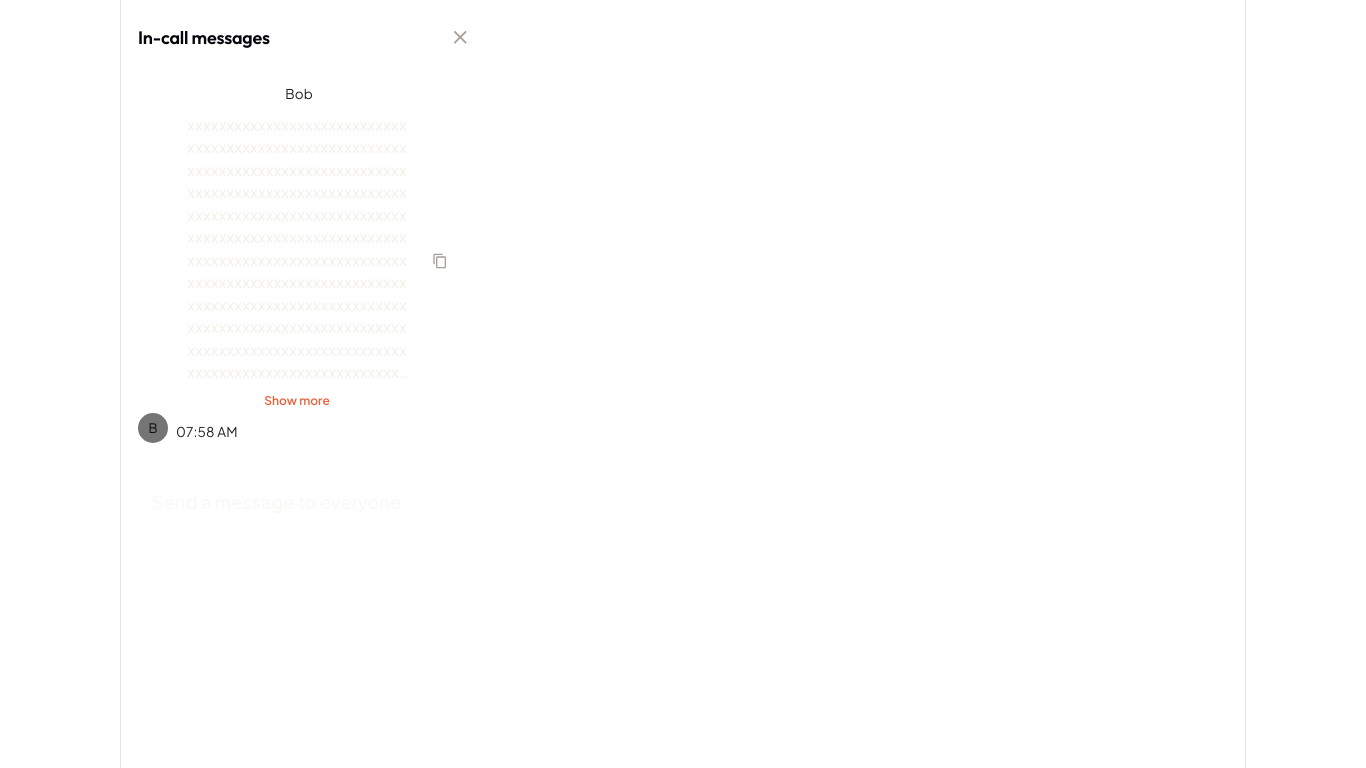
it: ChatPanel › long-message rendering › is a focusable native button that toggles on activation
Click the button "Show more" at (297, 401), box x1=264 y1=392 x2=330 y2=409
(page scrolled)
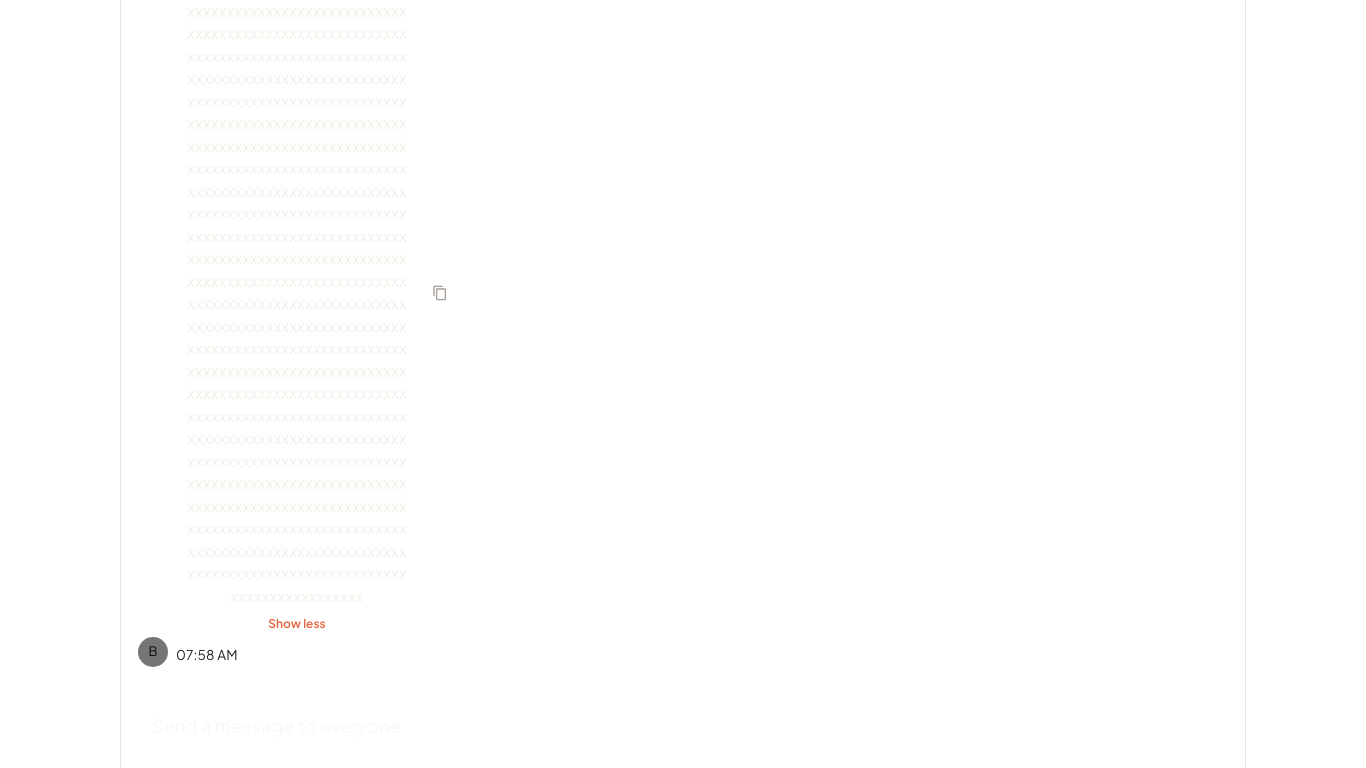
Now the button "Show less" is expanded, box x1=268 y1=616 x2=326 y2=633
